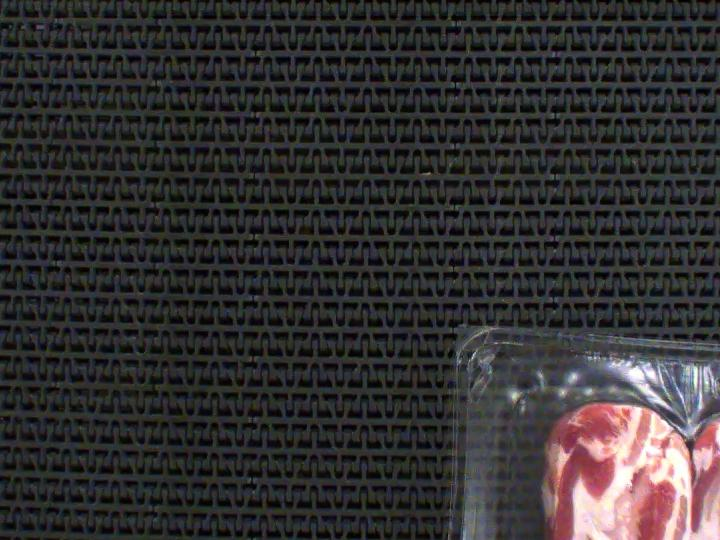unsealed: (473, 335, 720, 540)
